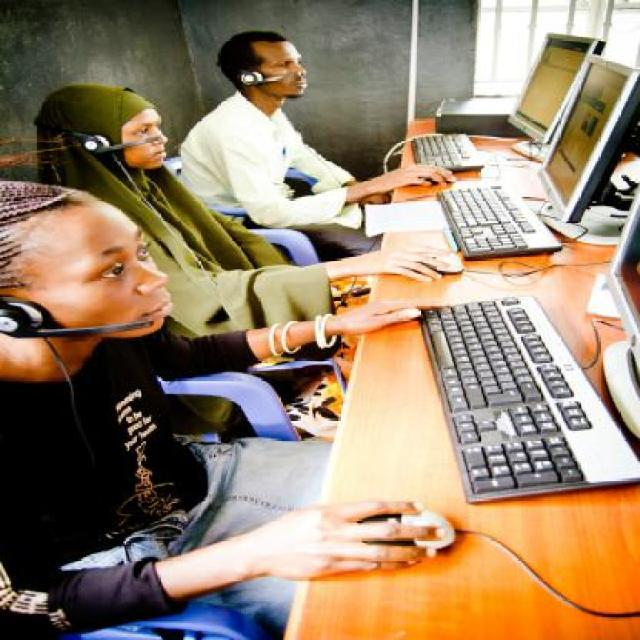earphone: (348, 486, 492, 595), (0, 274, 155, 356)
laptop_computer: (523, 52, 640, 217), (588, 163, 640, 450), (520, 26, 609, 155), (29, 111, 188, 168), (218, 66, 330, 96)
mouse: (392, 247, 487, 295)
